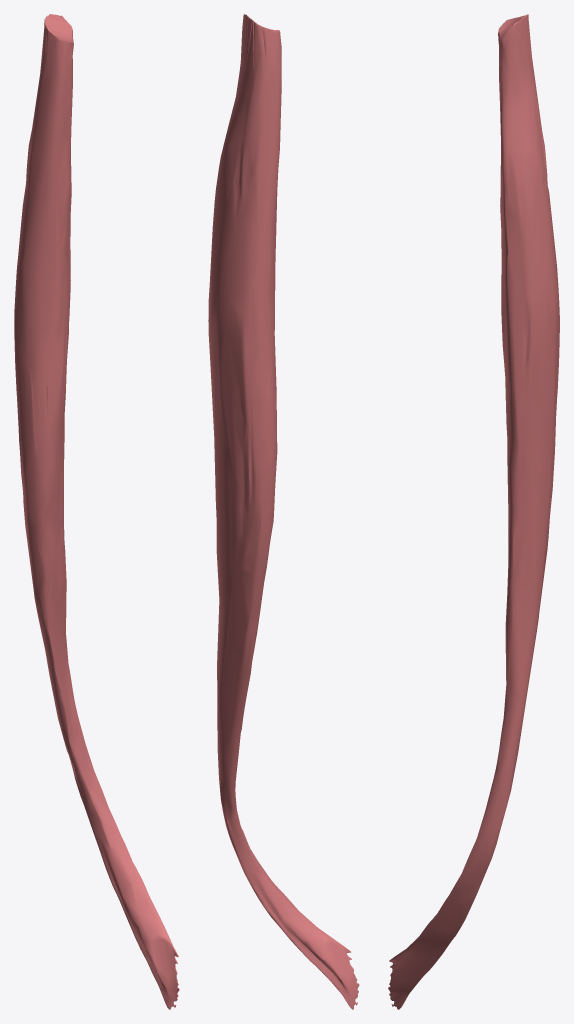
3 renders of one model, left to right at view 1: azimuth 90°, elevation 25°; view 2: azimuth 150°, elevation 25°; view 3: azimuth 270°, elevation 25°, orthographic. The views are drawn at different scales.
Parts seen in each view (by area): view 1: FJ1436; view 2: FJ1436; view 3: FJ1436.
Part boxes in pixels (bbox=[...]): FJ1436: bbox=[14, 14, 179, 1009]; FJ1436: bbox=[208, 14, 359, 1009]; FJ1436: bbox=[388, 14, 559, 1009].
Bounding box in the file's own units: 0.0411 × 0.478 × 0.0734.
